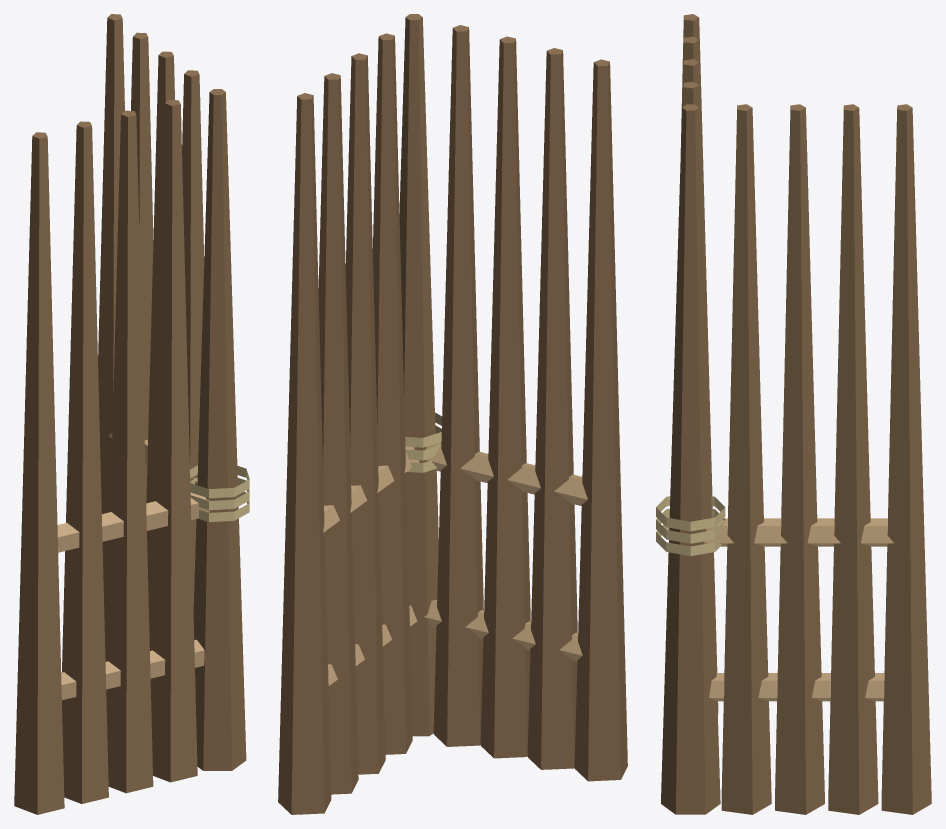
File: palisade_09.glb
3 renders of one model, left to right at view 1: azimuth 30°, elevation 25°; view 2: azimuth 150°, elevation 25°; view 3: azimuth 270°, elevation 25°, orthographic. The views are drawn at different scales.
Parts seen in each view (by area): view 1: palisade_09; view 2: palisade_09; view 3: palisade_09.
Part boxes in pixels (x1,y1,x2,y2): palisade_09: [14, 14, 249, 814]; palisade_09: [278, 14, 627, 814]; palisade_09: [656, 14, 931, 814].
Size of the model in its own units: 0.6428 by 1.8 by 0.646.
